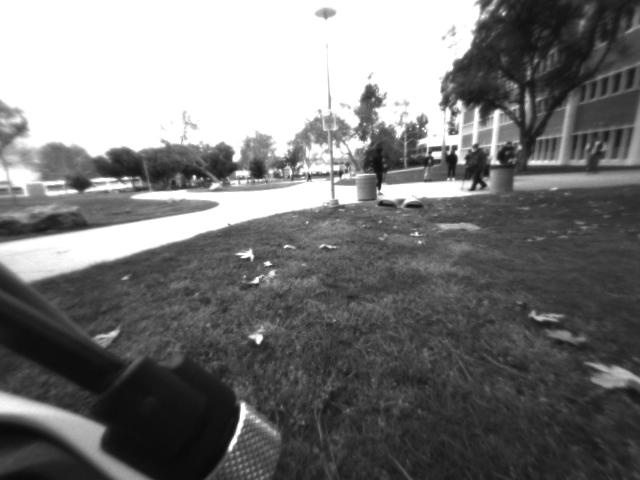trashcan: (485, 158, 520, 199), (353, 168, 385, 205)
